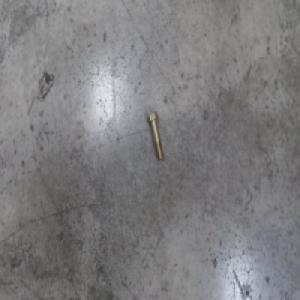Bolt: (142, 113, 160, 163)
